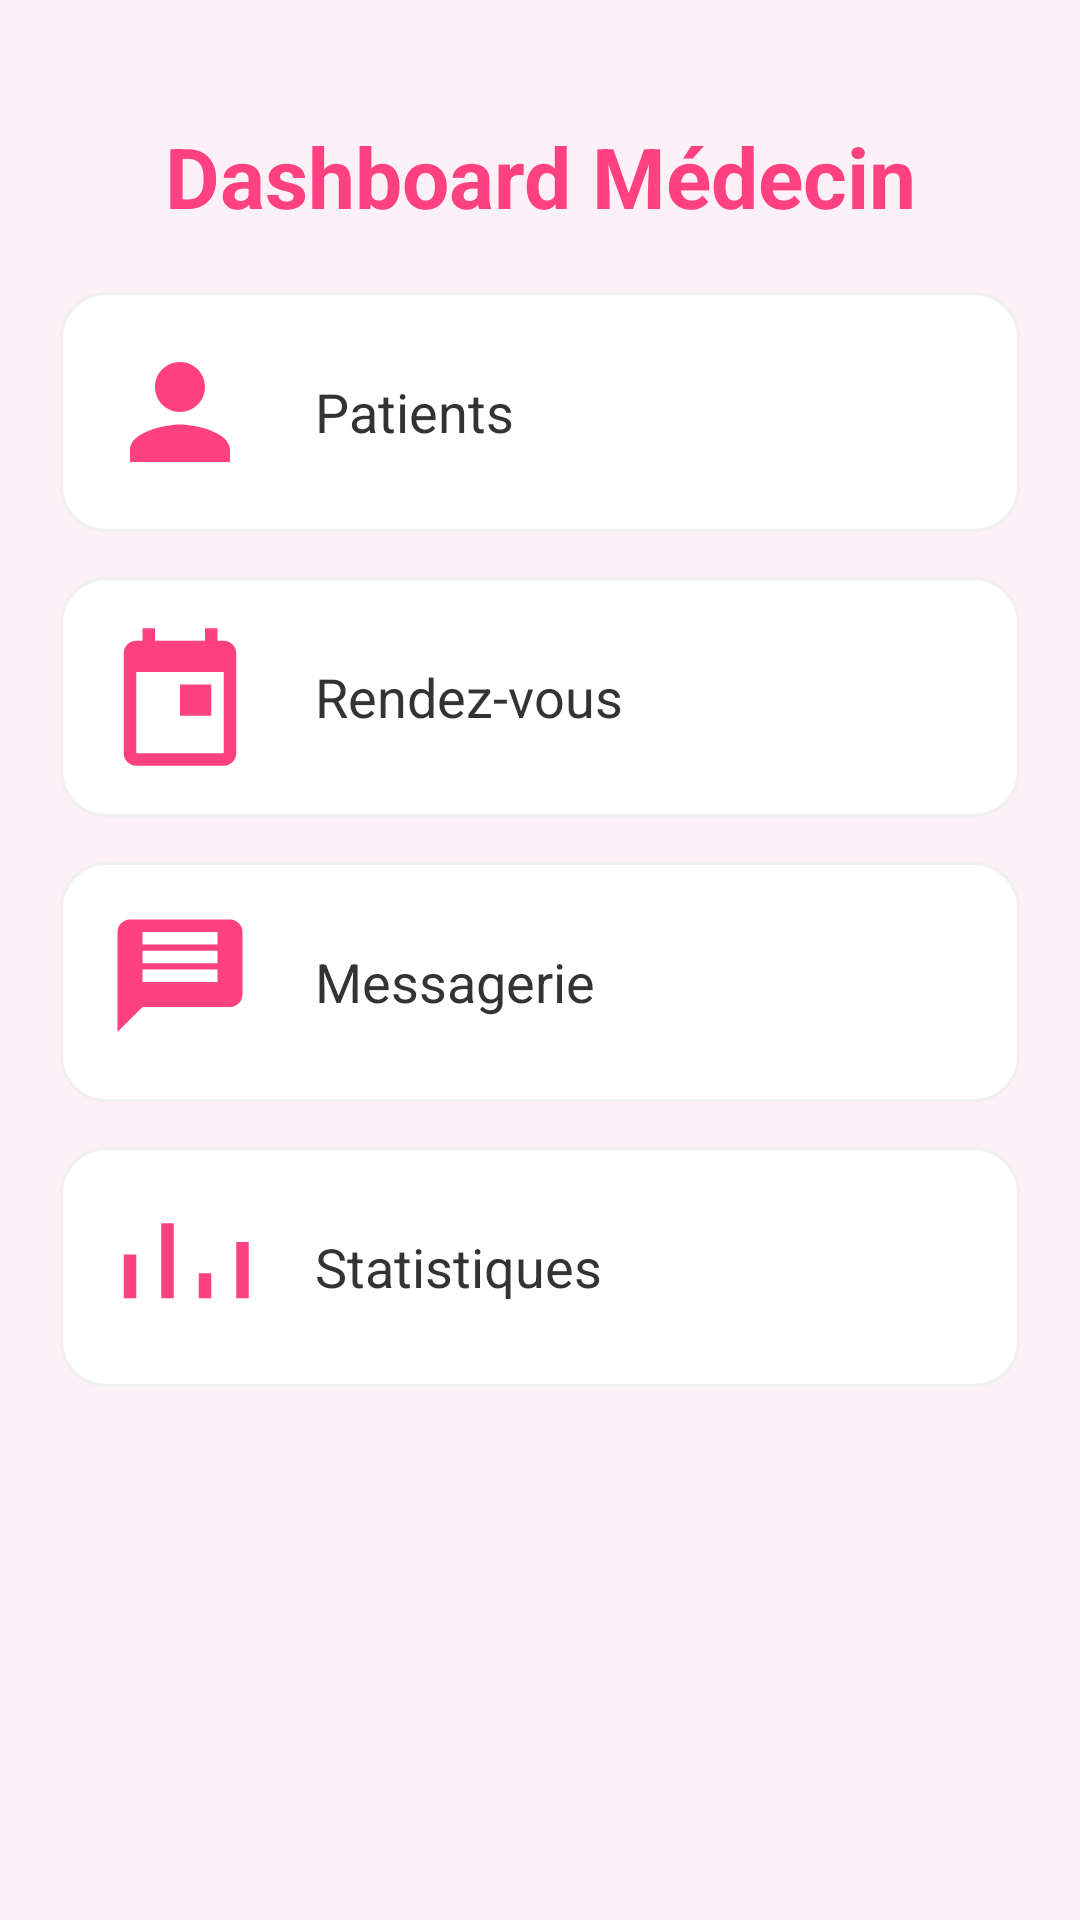

Locate icon controls on the screen. Image size 1080px×1920px, boxes as (x1, y1, x2, y2).
stats: (123, 1223, 249, 1299)
